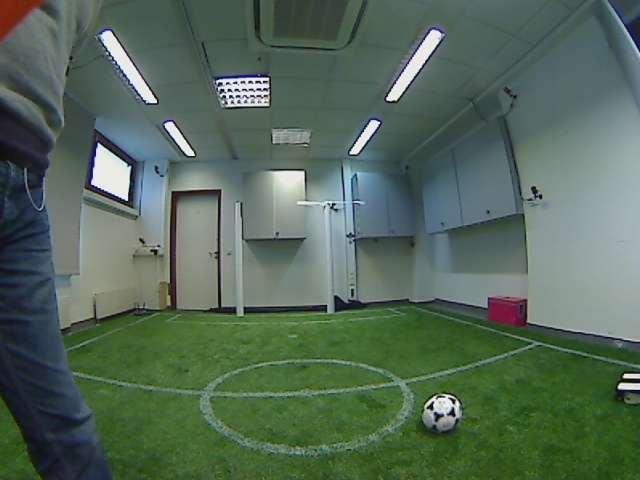ball: (417, 390, 467, 436)
